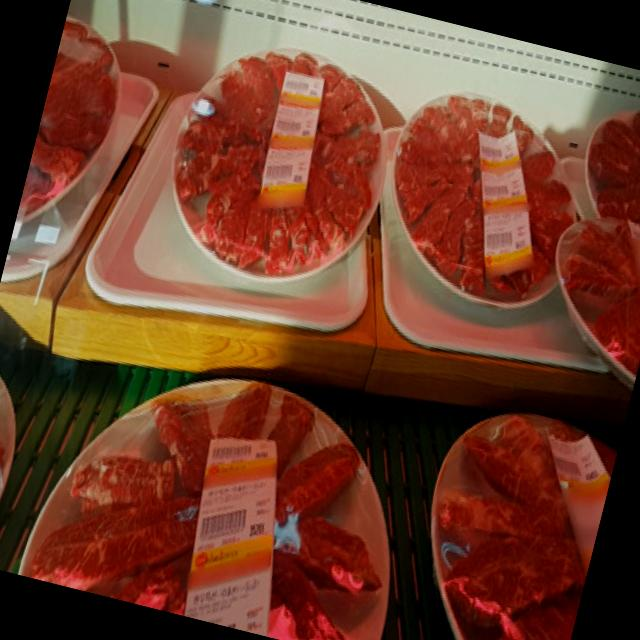beef: (92, 383, 367, 640), (192, 47, 384, 276)
